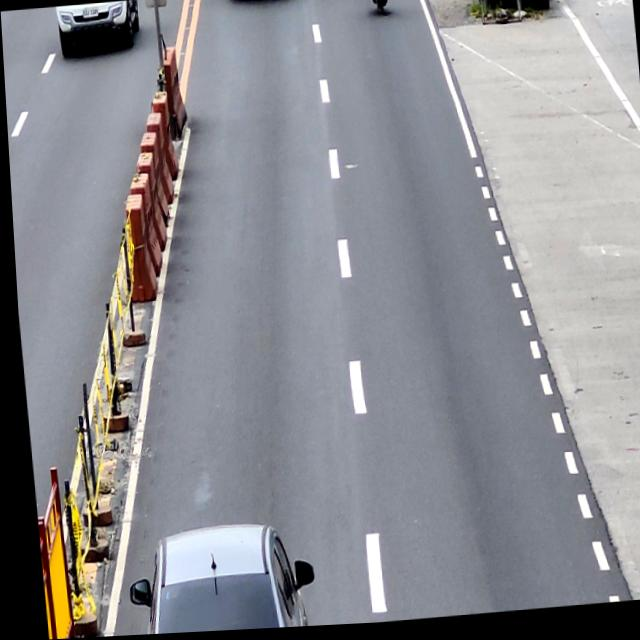Car: (120, 517, 310, 636)
